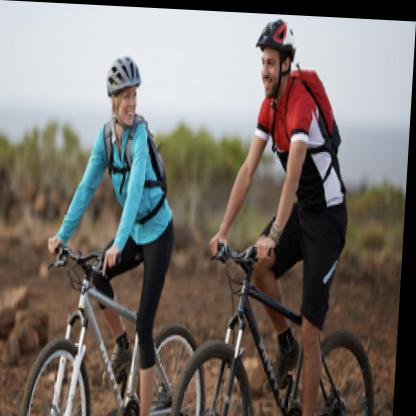With Helmet: (246, 14, 305, 99), (101, 40, 147, 143)
